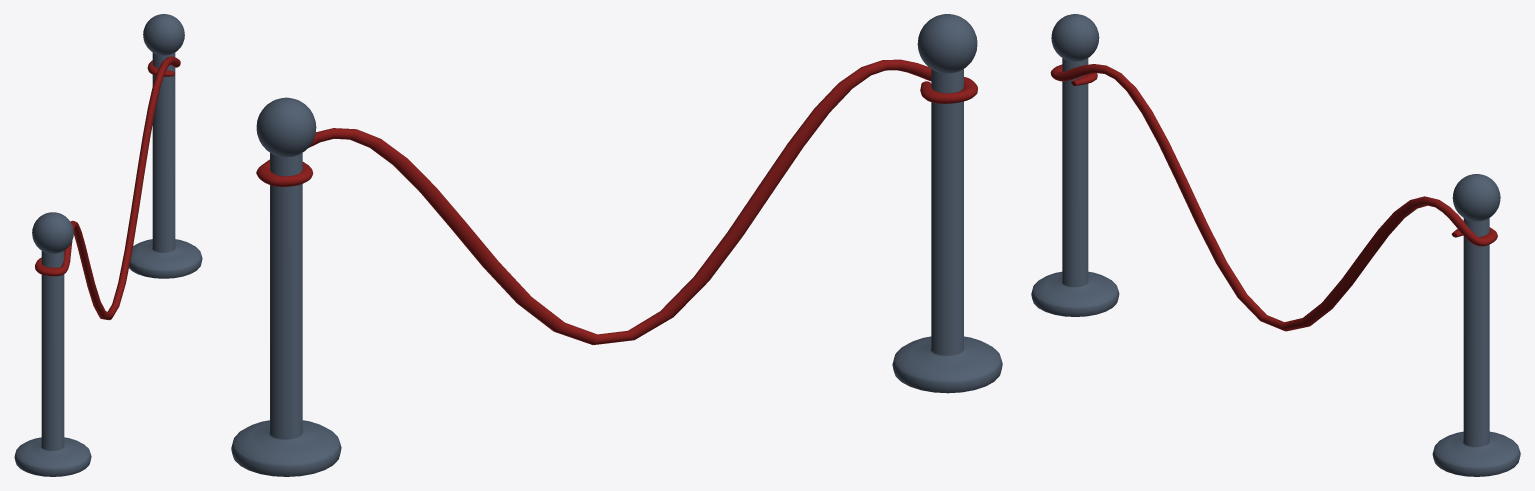
The model's file is barrier.fbx.
3 views of the same model, side by side, from view 1: azimuth 30°, elevation 25°; view 2: azimuth 150°, elevation 25°; view 3: azimuth 270°, elevation 25° (orthographic). The views are drawn at different scales.
Parts seen in each view (by area): view 1: NurbsPath.019; view 2: NurbsPath.019; view 3: NurbsPath.019.
Part boxes in pixels (<box>): NurbsPath.019: <box>14,14,202,476</box>; NurbsPath.019: <box>231,14,1002,476</box>; NurbsPath.019: <box>1031,14,1520,476</box>.
Size of the model in its own units: 434 by 290 by 455.
